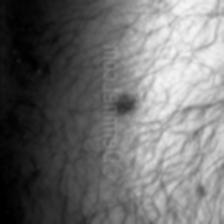Potentially Malignant Skin Tumors: (116, 91, 144, 115)
